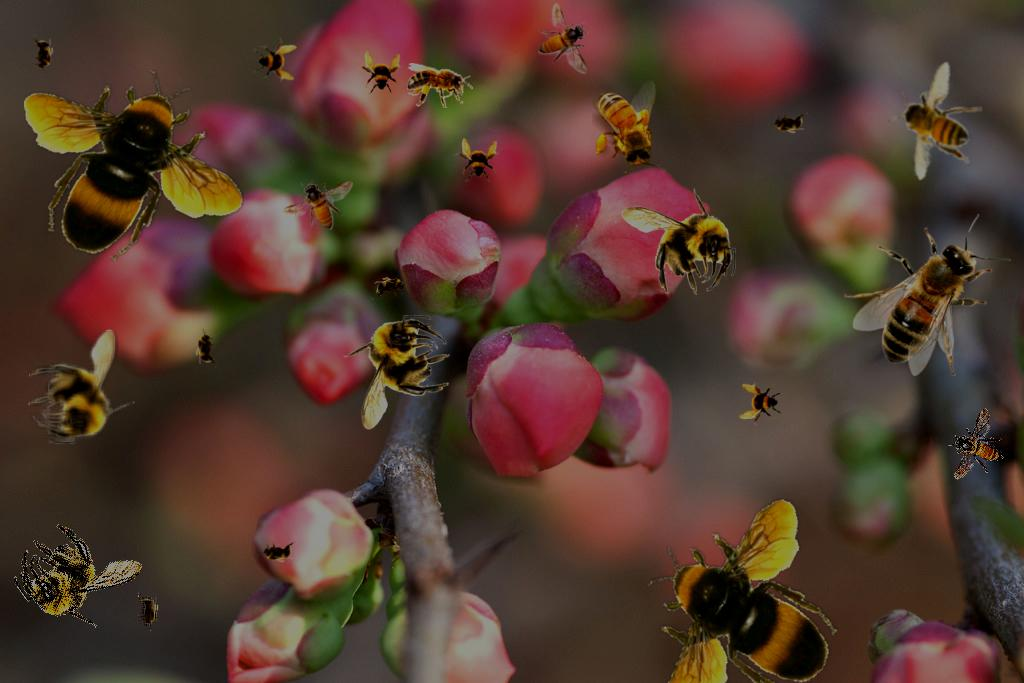Bee: (24, 70, 244, 261), (641, 491, 845, 683), (844, 214, 1011, 376), (0, 497, 157, 652), (879, 55, 996, 185), (343, 315, 450, 430), (28, 329, 135, 444), (621, 188, 736, 295), (933, 406, 1019, 493), (592, 80, 660, 173), (282, 180, 353, 230), (538, 3, 588, 74), (407, 63, 473, 108), (358, 51, 402, 95), (455, 138, 499, 182), (739, 382, 783, 426), (253, 38, 297, 82), (369, 273, 413, 301), (30, 34, 56, 76), (195, 328, 217, 368), (137, 592, 159, 632), (257, 541, 297, 563), (768, 112, 808, 134)
